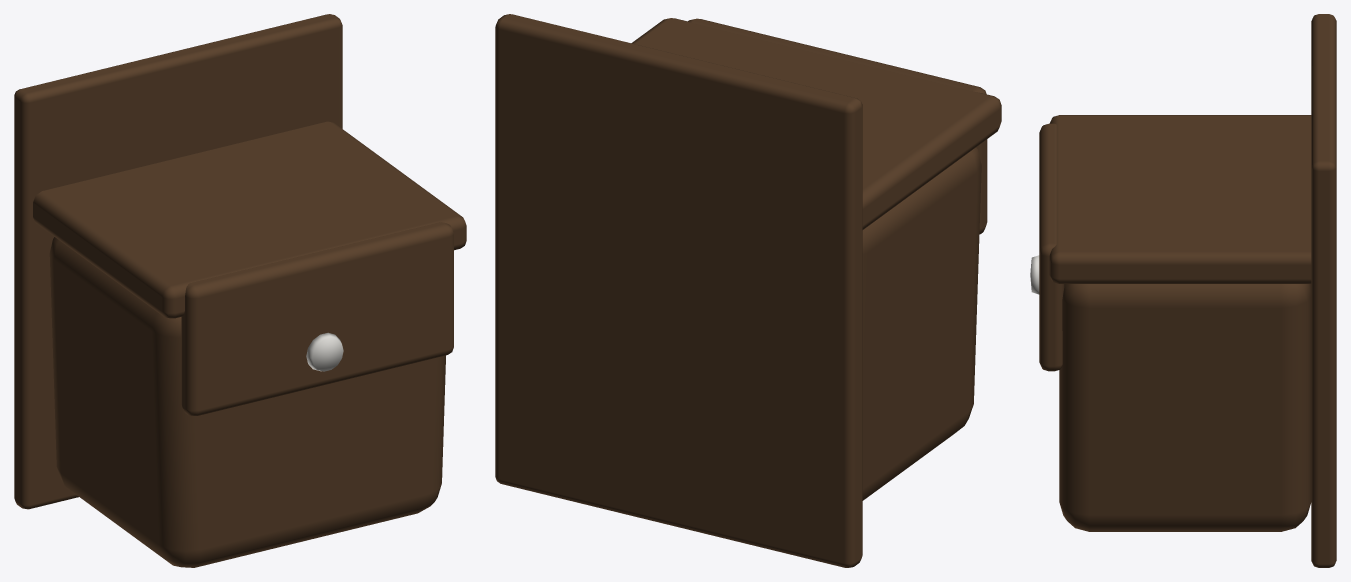
The model's file is pouch.glb.
3 renders of one model, left to right at view 1: azimuth 30°, elevation 25°; view 2: azimuth 150°, elevation 25°; view 3: azimuth 270°, elevation 25°, orthographic. The views are drawn at different scales.
Parts seen in each view (by area): view 1: body-leather, body-nickel; view 2: body-leather; view 3: body-leather.
Boxes of the visible parts, x1=… form: body-leather: x1=14, y1=14, x2=466, y2=567; body-nickel: x1=306, y1=332, x2=343, y2=371; body-leather: x1=495, y1=14, x2=1001, y2=567; body-leather: x1=1039, y1=14, x2=1336, y2=567.
Size of the model in its own units: 0.072 by 0.089 by 0.0608.
